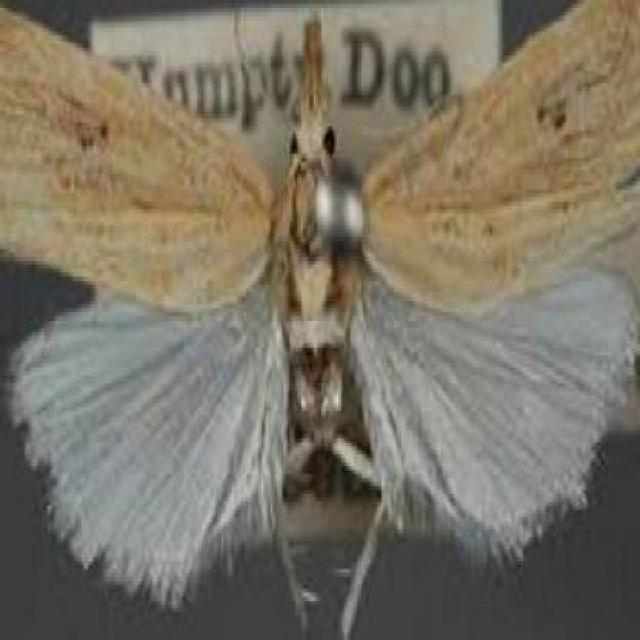stem-borer: (0, 0, 638, 634)
